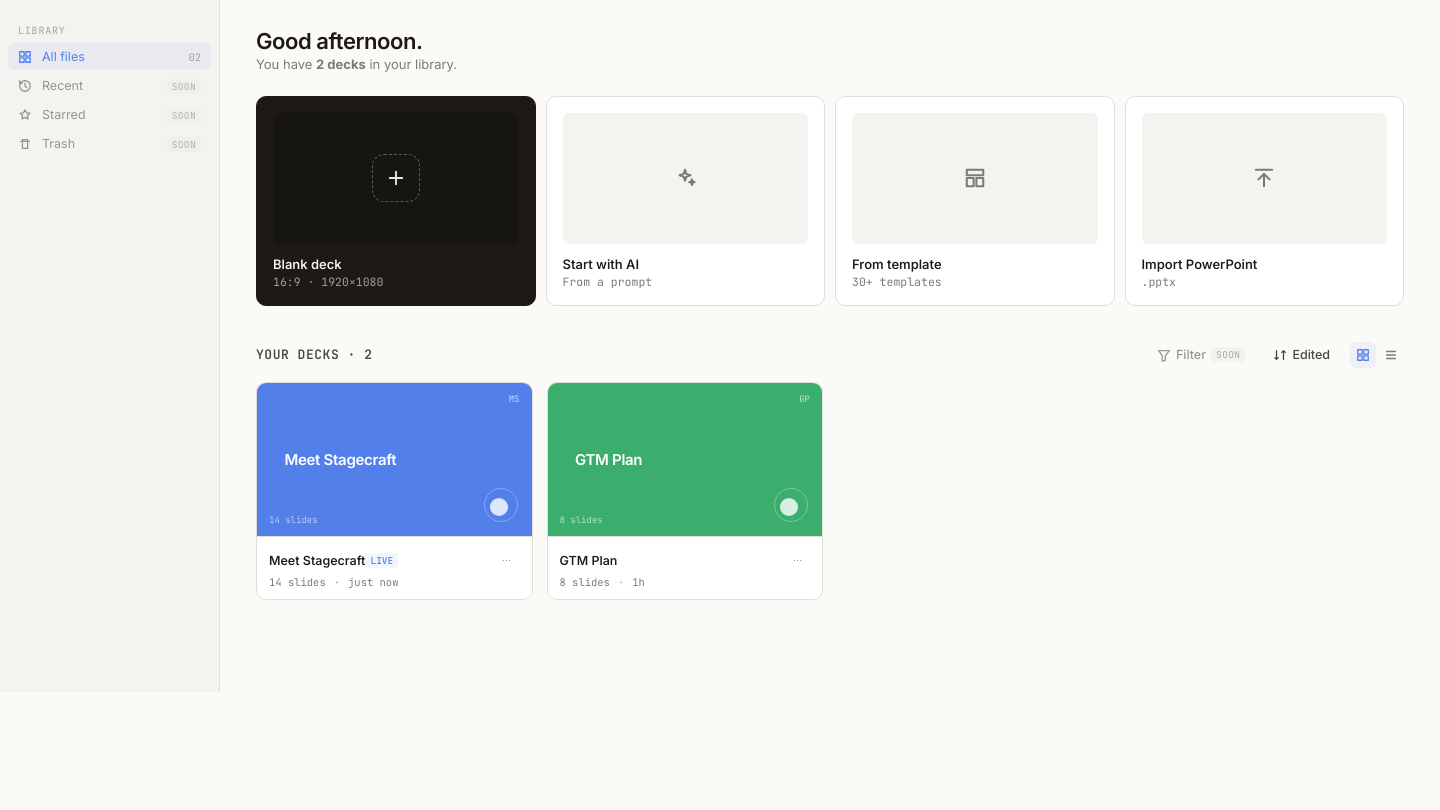
Test: HomeView › opening a deck-actions menu does not open the deck
The image size is (1440, 810).
What coordinates should you click on to do the following:
click the button titled "Actions: Meet Stagecraft"
I would click on:
 (506, 560)
Its box is [494,547,520,573].
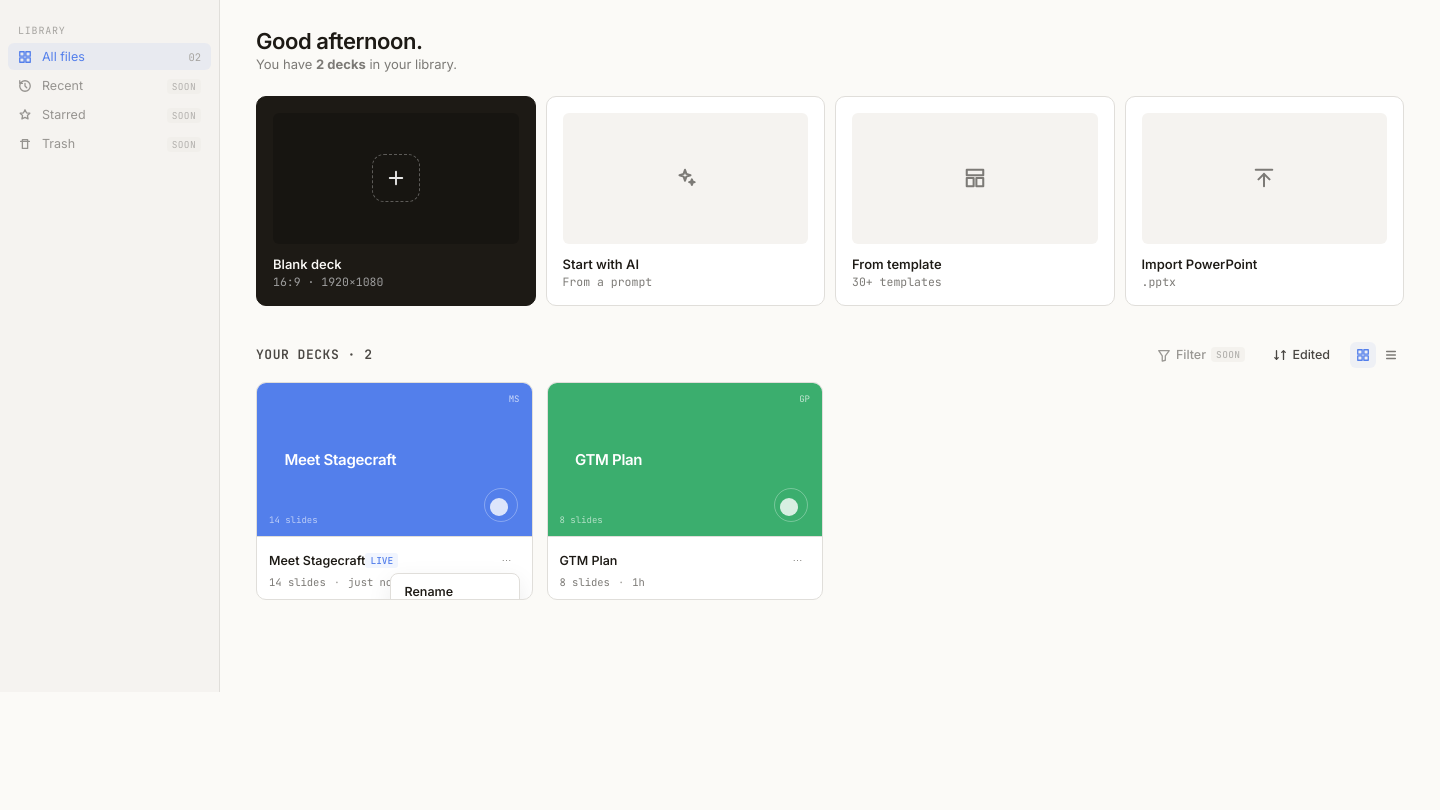
Expected: the button "Rename" is shown, [394,578,514,600]
